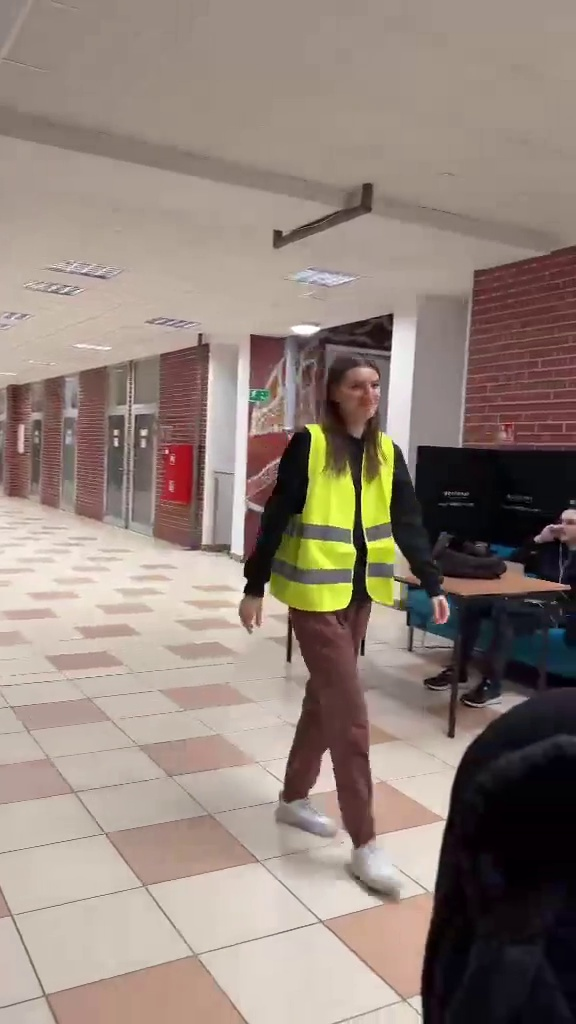no vest: (463, 506, 575, 712)
vest: (239, 350, 447, 914)
